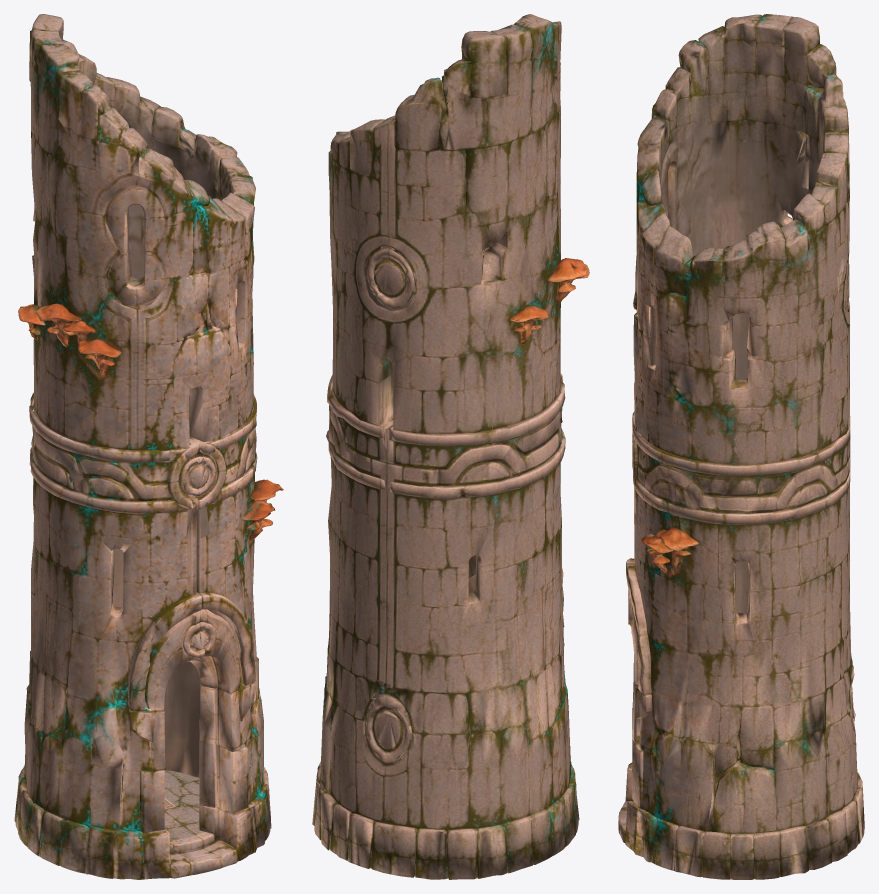
Rendered from citadel_tower.fbx.
The picture shows the model from 3 angles, left to right: view 1: azimuth 30°, elevation 25°; view 2: azimuth 150°, elevation 25°; view 3: azimuth 270°, elevation 25°; orthographic projection. The views are drawn at different scales.
Parts seen in each view (by area): view 1: citadel_tower; view 2: citadel_tower; view 3: citadel_tower.
Part boxes in pixels (box(x1,y1,x2,y2)): citadel_tower: box(14, 14, 283, 879); citadel_tower: box(312, 14, 589, 879); citadel_tower: box(618, 14, 864, 879).
Size of the model in its own units: 6.61 by 22 by 6.36.
